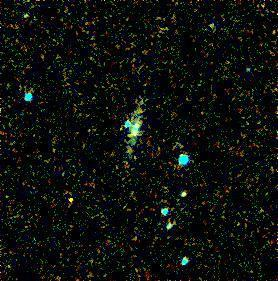star: (134, 119, 164, 149)
